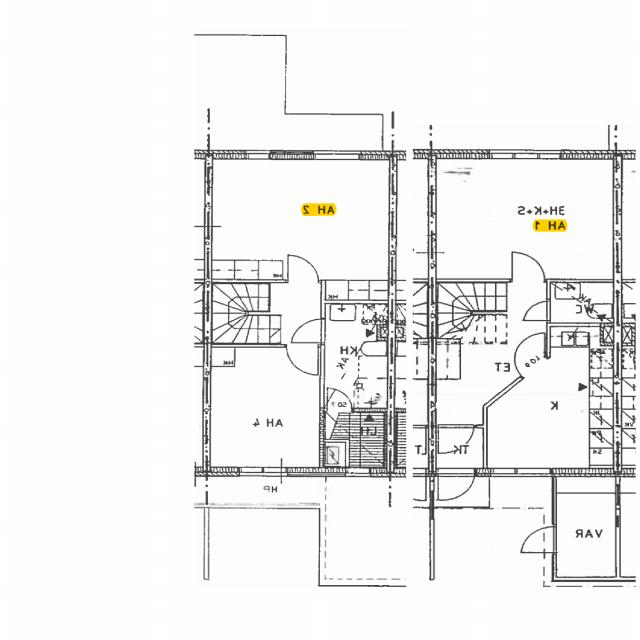door: (500, 338, 548, 378), (438, 468, 475, 507), (439, 425, 474, 457), (521, 526, 557, 553), (513, 252, 545, 282), (288, 254, 318, 283), (288, 343, 318, 372), (293, 319, 324, 342), (328, 388, 352, 412), (524, 301, 550, 320)
